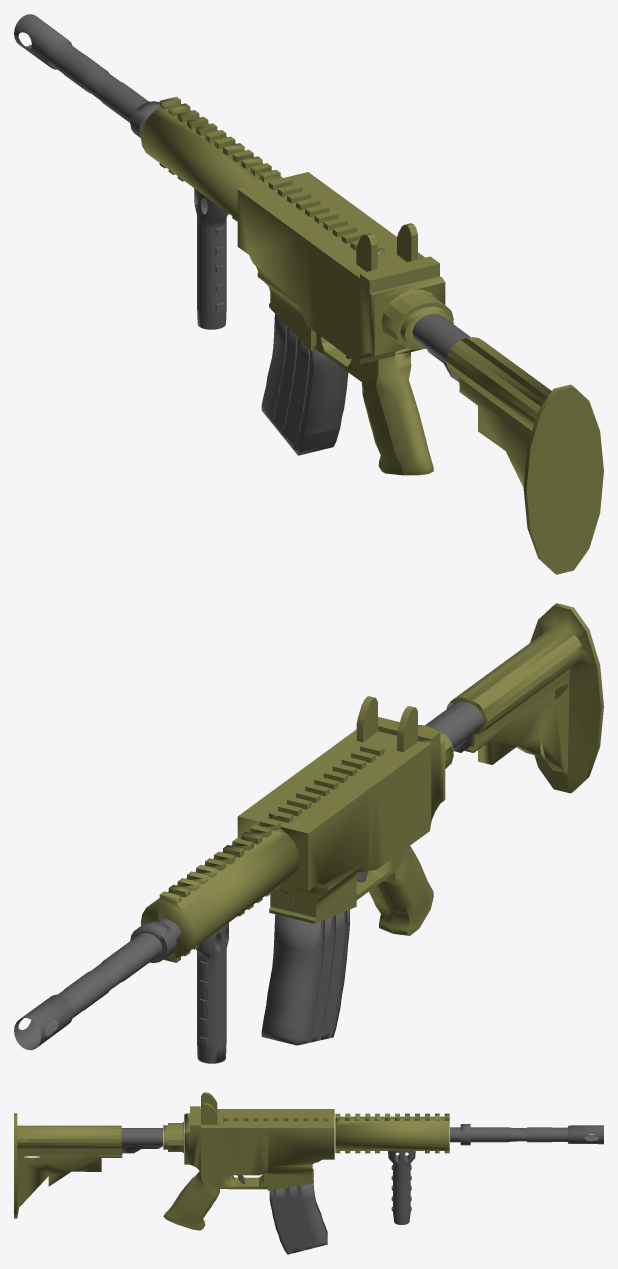
3 renders of one model, top to bottom at view 1: azimuth 30°, elevation 25°; view 2: azimuth 150°, elevation 25°; view 3: azimuth 270°, elevation 25°, orthographic. The views are drawn at different scales.
Visible parts, largest first — view 1: pCube14; view 2: pCube14; view 3: pCube14.
Part boxes in pixels (<box>): pCube14: <box>14,14,603,574</box>; pCube14: <box>14,603,603,1063</box>; pCube14: <box>14,1092,603,1254</box>.
Bounding box in the file's own units: 0.4673 × 1.59 × 5.62.
